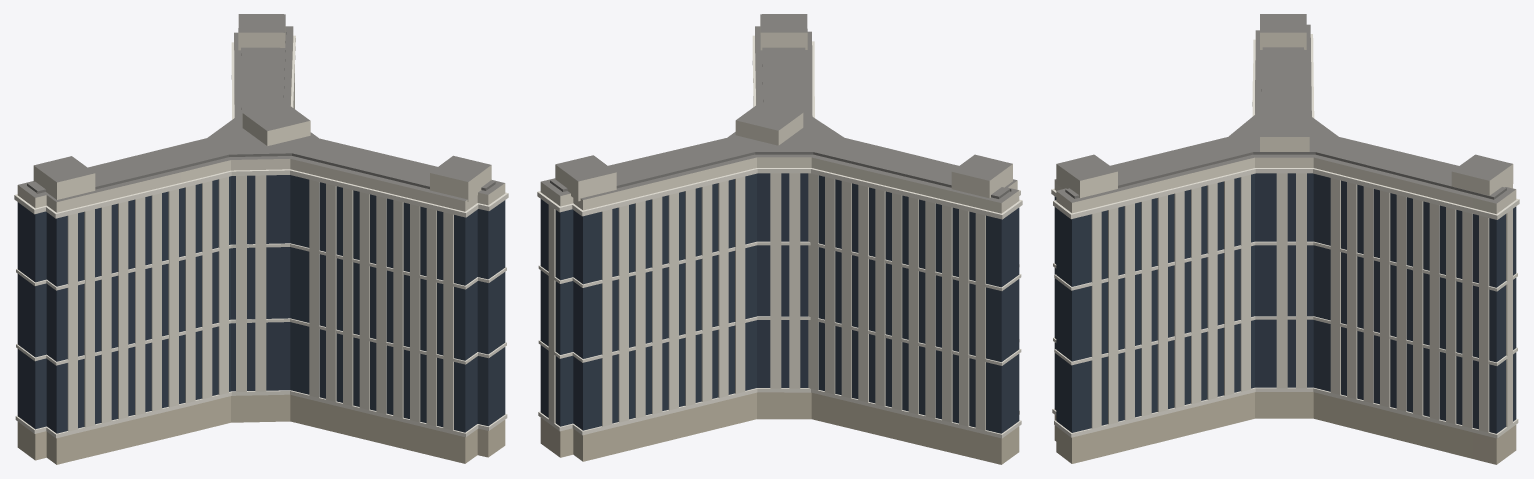
Rendered from park_mgm_w27831695.glb.
3 views of the same model, side by side, from view 1: azimuth 30°, elevation 25°; view 2: azimuth 150°, elevation 25°; view 3: azimuth 270°, elevation 25° (orthographic).
Visible parts, largest first — view 1: Resort_w27831695; view 2: Resort_w27831695; view 3: Resort_w27831695.
Boxes of the visible parts, <box> form: Resort_w27831695: <box>14,14,508,464</box>; Resort_w27831695: <box>537,14,1022,464</box>; Resort_w27831695: <box>1051,14,1519,464</box>.
Bounding box in the file's own units: 157 × 112 × 171.
